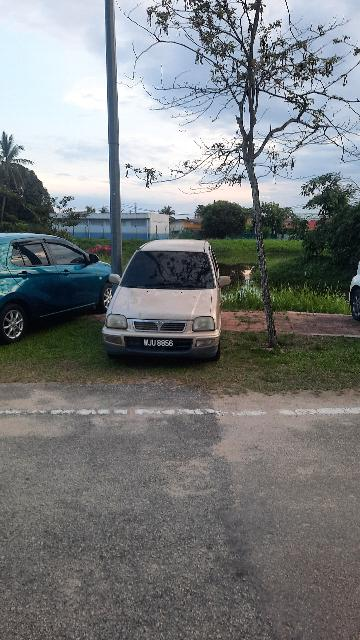License_Plate: (139, 336, 184, 350)
car: (100, 233, 235, 367)
